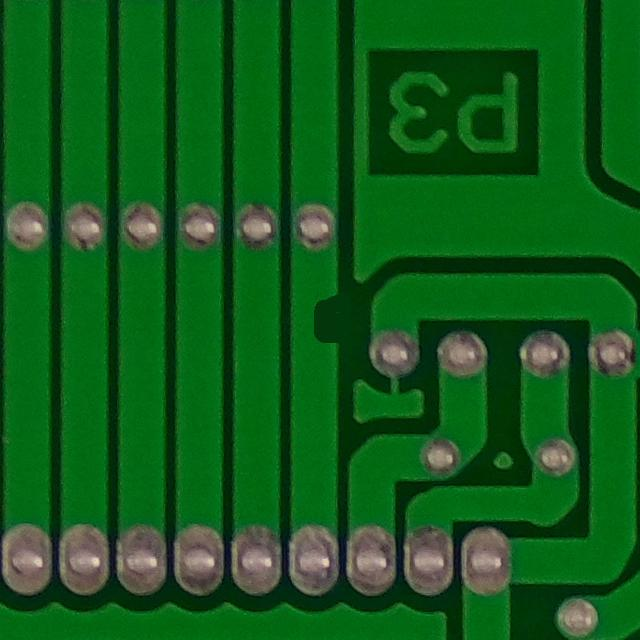mouse_bite: (283, 280, 358, 360)
